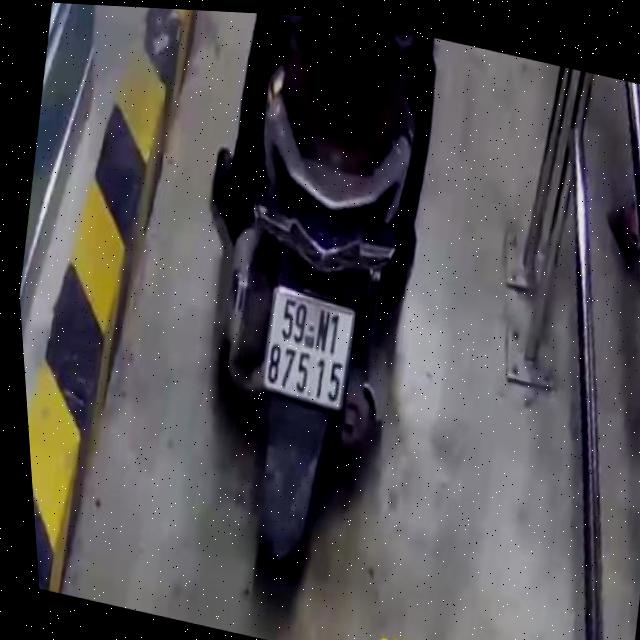motorcycle: (124, 6, 499, 626)
plate: (248, 276, 366, 418)
